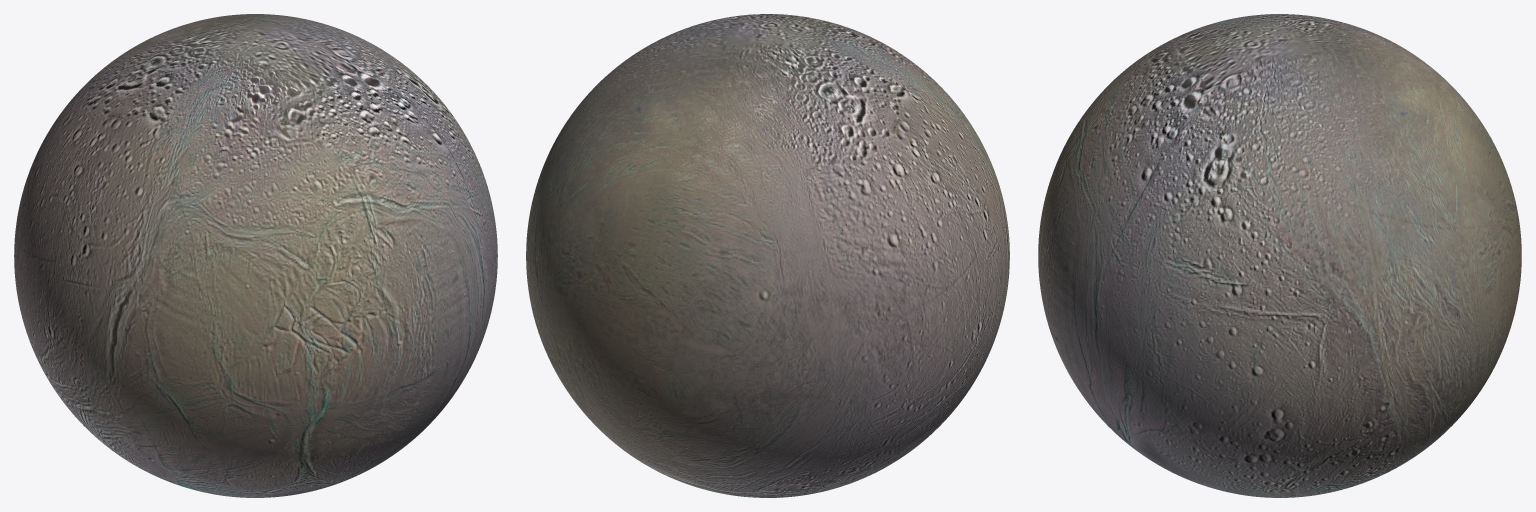
Rendered from enceladus.glb.
The picture shows the model from 3 angles, left to right: view 1: azimuth 30°, elevation 25°; view 2: azimuth 150°, elevation 25°; view 3: azimuth 270°, elevation 25°; orthographic projection.
Visible parts, largest first — view 1: Enceladus_Asset; view 2: Enceladus_Asset; view 3: Enceladus_Asset.
Boxes of the visible parts, box(x1,y1,x2,y2) form: Enceladus_Asset: box(14, 14, 497, 497); Enceladus_Asset: box(526, 14, 1009, 497); Enceladus_Asset: box(1038, 14, 1521, 497).
Bounding box in the file's own units: 0.3994 × 0.4 × 0.3994.
1 material, 1 textured.
